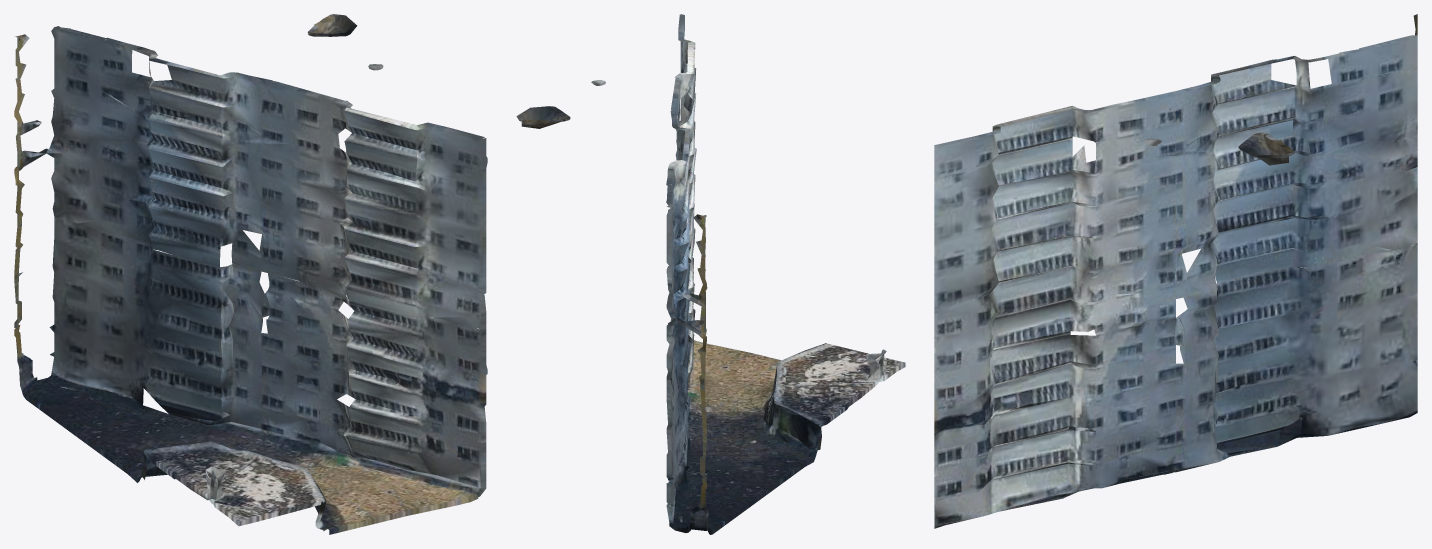
The picture shows the model from 3 angles, left to right: view 1: azimuth 30°, elevation 25°; view 2: azimuth 150°, elevation 25°; view 3: azimuth 270°, elevation 25°; orthographic projection. The views are drawn at different scales.
Visible parts, largest first — view 1: 30436272704361626607_0; view 2: 30436272704361626607_0; view 3: 30436272704361626607_0.
Part boxes in pixels (box(x1,y1,x2,y2)): 30436272704361626607_0: box(14, 14, 487, 534); 30436272704361626607_0: box(516, 14, 905, 534); 30436272704361626607_0: box(934, 14, 1417, 528).
Size of the model in its own units: 27 by 34.37 by 38.27.
1 material, 1 textured.
